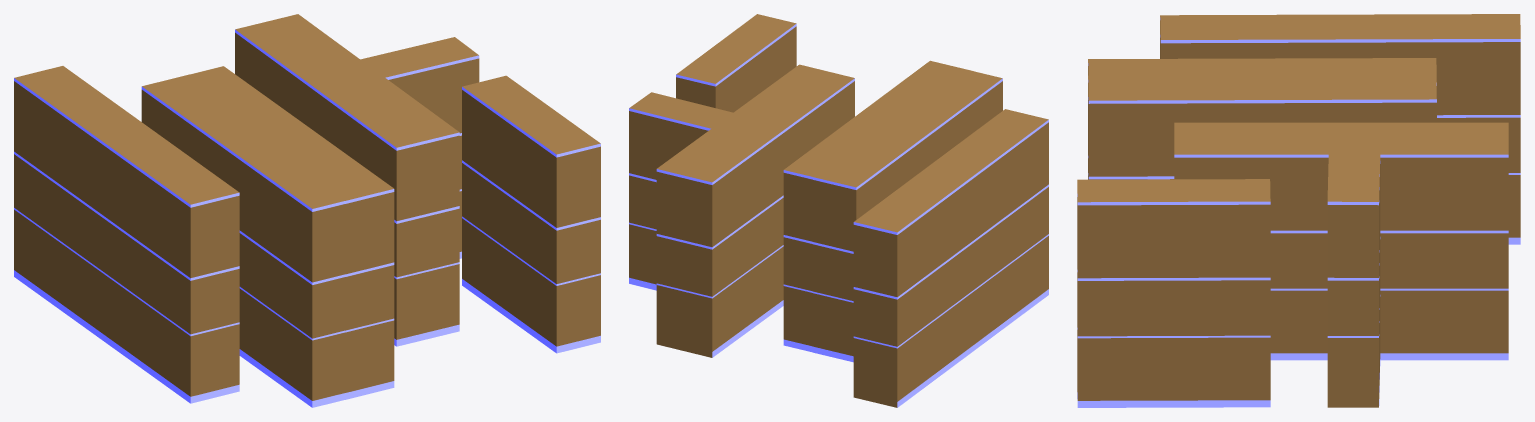
Rendered from mapa2.glb.
3 renders of one model, left to right at view 1: azimuth 30°, elevation 25°; view 2: azimuth 150°, elevation 25°; view 3: azimuth 270°, elevation 25°, orthographic. The views are drawn at different scales.
Visible parts, largest first — view 1: wall_1_.003, wall_1_.001, wall_1_.005, wall_1_.006, wall_1_.004, wall_1_.002; view 2: wall_1_.003, wall_1_.006, wall_1_.005, wall_1_.004, wall_1_.002, wall_1_.001; view 3: wall_1_.006, wall_1_.001, wall_1_.003, wall_1_.004, wall_1_.002, wall_1_.005.
Part boxes in pixels (<box>): wall_1_.003: <box>14,66,239,403</box>; wall_1_.001: <box>462,75,600,353</box>; wall_1_.005: <box>141,74,360,407</box>; wall_1_.006: <box>235,14,459,346</box>; wall_1_.004: <box>179,66,394,399</box>; wall_1_.002: <box>360,37,479,258</box>; wall_1_.003: <box>853,109,1048,407</box>; wall_1_.006: <box>656,64,854,357</box>; wall_1_.005: <box>812,68,1002,362</box>; wall_1_.004: <box>783,60,973,352</box>; wall_1_.002: <box>629,92,732,290</box>; wall_1_.001: <box>676,14,796,112</box>; wall_1_.006: <box>1174,122,1508,360</box>; wall_1_.001: <box>1077,179,1270,407</box>; wall_1_.003: <box>1160,14,1520,244</box>; wall_1_.004: <box>1088,74,1436,179</box>; wall_1_.002: <box>1327,154,1380,407</box>; wall_1_.005: <box>1088,58,1436,98</box>.
Size of what is drawn, in the model's own units: 31.38 by 16 by 31.25.
